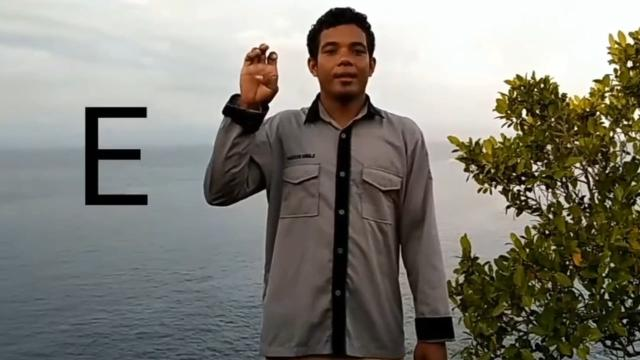E: (236, 42, 280, 106)
